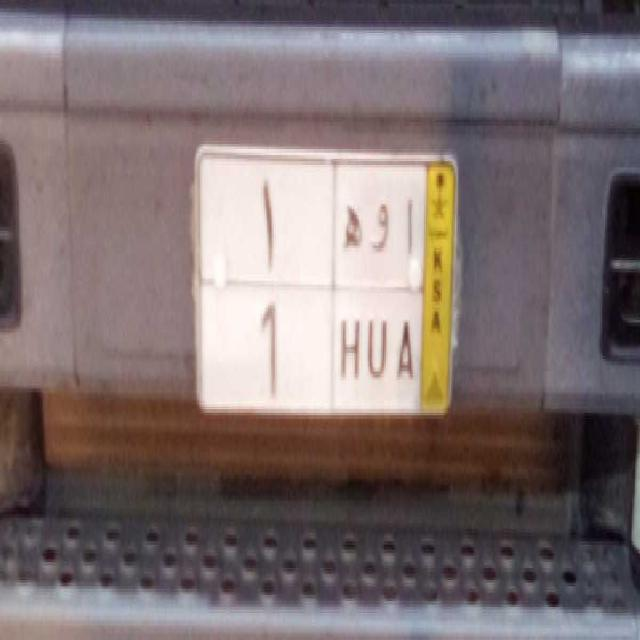license_plate: (200, 281, 422, 415)
